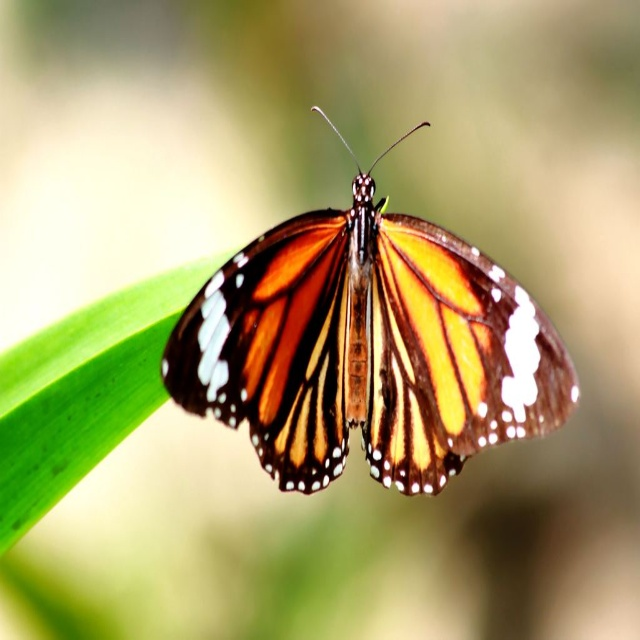Butterfly: (160, 107, 582, 495)
